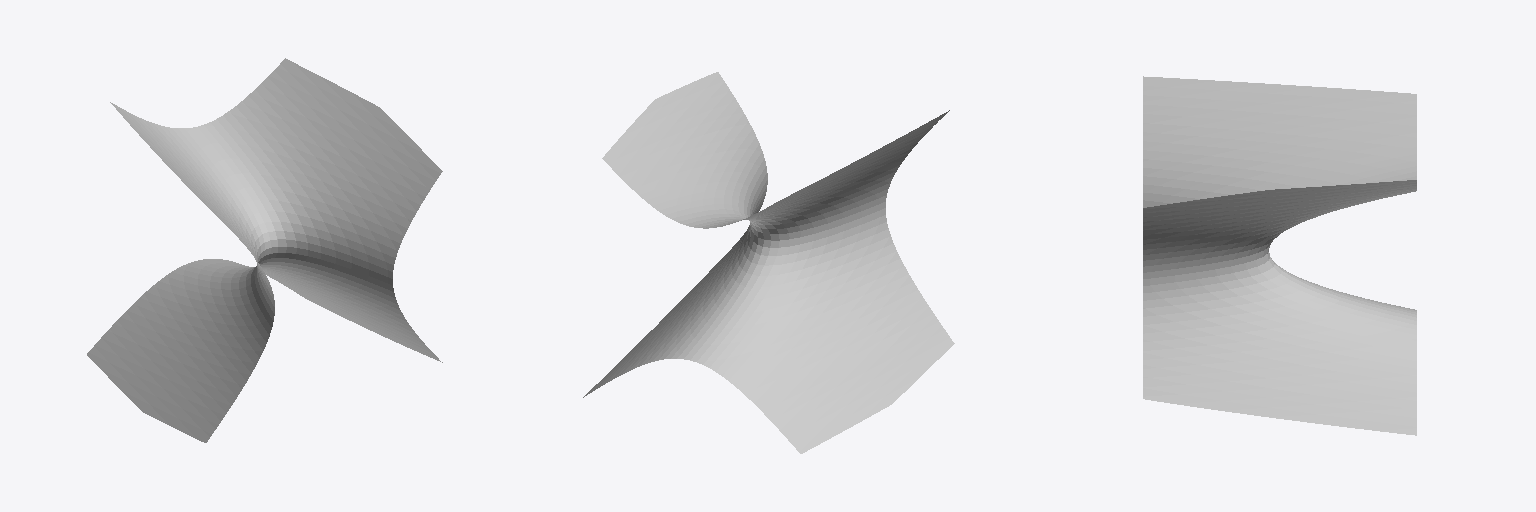
Rendered from hyperboloidone.obj.
3 renders of one model, left to right at view 1: azimuth 30°, elevation 25°; view 2: azimuth 150°, elevation 25°; view 3: azimuth 270°, elevation 25°, orthographic.
Bounding box in the file's own units: 7.4 × 7.4 × 7.4.